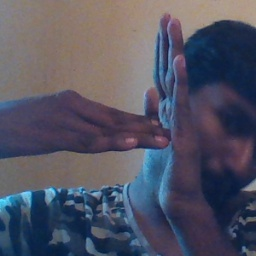Z: (87, 12, 204, 201)
